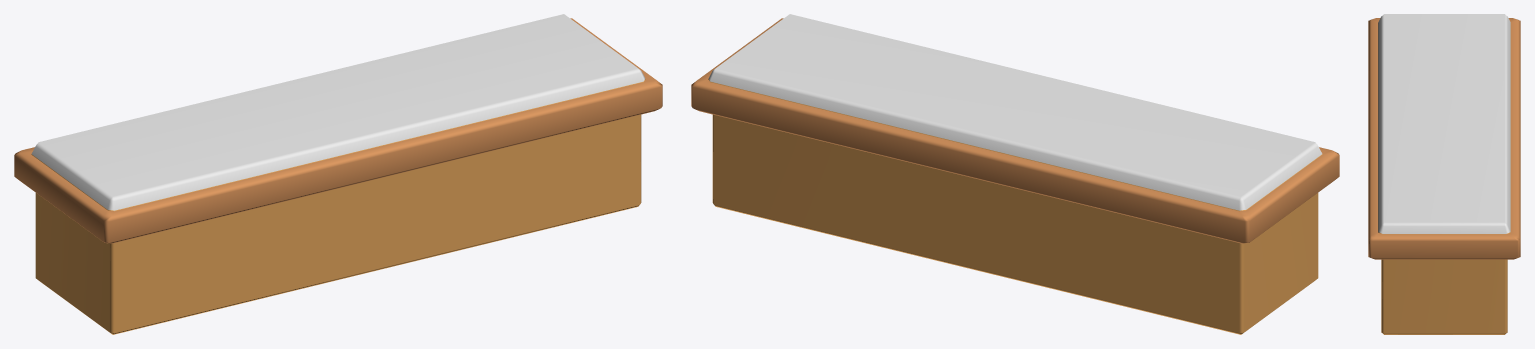
File: Bant.fbx
3 renders of one model, left to right at view 1: azimuth 30°, elevation 25°; view 2: azimuth 150°, elevation 25°; view 3: azimuth 270°, elevation 25°, orthographic. The views are drawn at different scales.
Parts seen in each view (by area): view 1: Bant; view 2: Bant; view 3: Bant.
Boxes of the visible parts, left/top/right/bottom form: Bant: left=14, top=14, right=662, bottom=334; Bant: left=691, top=14, right=1339, bottom=334; Bant: left=1368, top=14, right=1520, bottom=334.
Bounding box in the file's own units: 5.26 × 1.24 × 1.52.
